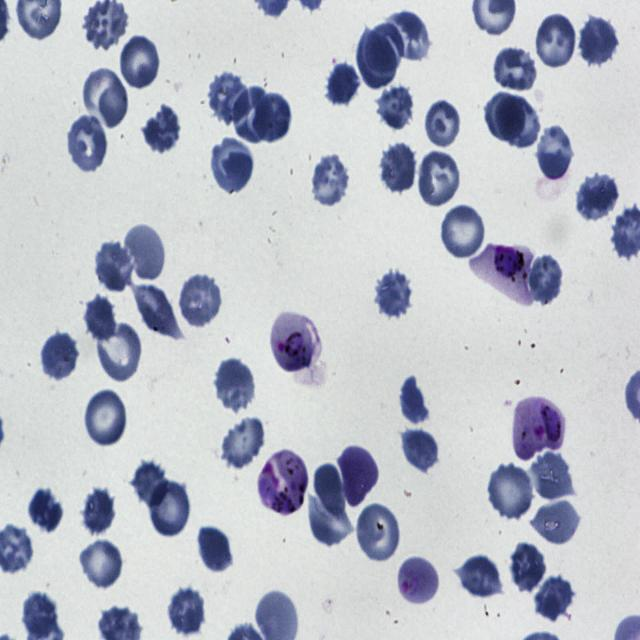difficult: (270, 309, 322, 372)
gametocyte: (468, 242, 534, 307)
red blood cell: (128, 282, 184, 341), (94, 318, 144, 382), (487, 460, 536, 522), (355, 502, 401, 567), (439, 201, 488, 262), (82, 386, 129, 448), (416, 147, 462, 209), (147, 478, 192, 539), (124, 222, 168, 284), (84, 68, 128, 130), (356, 26, 398, 90), (66, 112, 109, 174), (178, 272, 224, 329), (220, 414, 266, 470), (308, 491, 353, 548), (534, 12, 578, 70), (118, 33, 162, 90), (212, 138, 255, 195), (531, 498, 581, 547), (92, 239, 136, 294), (339, 444, 378, 506), (213, 358, 256, 414), (309, 154, 352, 210), (82, 0, 130, 50), (78, 539, 125, 590), (384, 11, 431, 62), (529, 450, 574, 503), (495, 95, 540, 148), (232, 87, 273, 143), (577, 169, 620, 222), (457, 552, 503, 601), (535, 123, 573, 182), (578, 15, 620, 68), (379, 140, 418, 195), (373, 268, 415, 319), (206, 70, 248, 121), (423, 96, 462, 150), (40, 331, 80, 383), (486, 92, 528, 141), (507, 541, 545, 595), (167, 584, 206, 636), (493, 47, 538, 91), (141, 106, 182, 154), (534, 573, 574, 622), (400, 424, 440, 473), (365, 22, 404, 72), (28, 486, 66, 536), (528, 252, 563, 306), (375, 84, 414, 132), (81, 486, 118, 536), (251, 93, 290, 139), (20, 591, 57, 639), (312, 464, 344, 518), (398, 372, 429, 427), (131, 459, 166, 506), (197, 526, 231, 574), (327, 63, 361, 109), (84, 296, 115, 342)
ring: (397, 554, 441, 608)
trophozoite: (259, 447, 310, 516), (510, 396, 566, 458)
